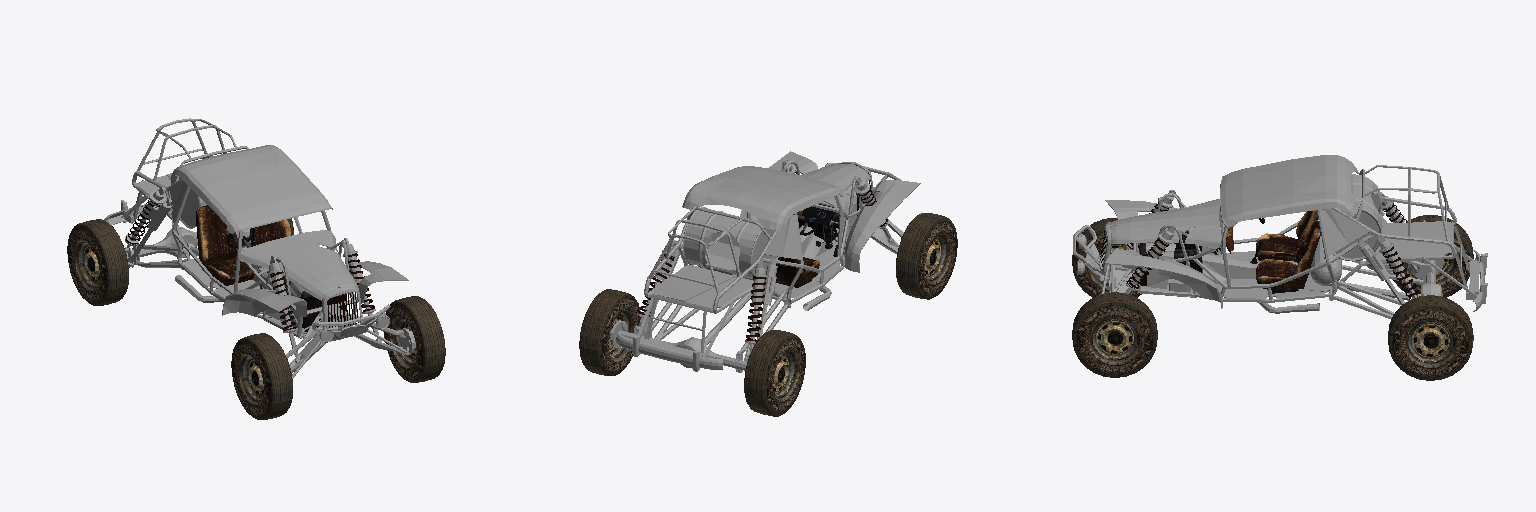
The picture shows the model from 3 angles: view 1: azimuth 30°, elevation 25°; view 2: azimuth 150°, elevation 25°; view 3: azimuth 270°, elevation 25°; orthographic projection.
Visible parts, largest first — view 1: BuggyExterior, BuggyWheels, BuggyInterior, BuggyShockAbs; view 2: BuggyExterior, BuggyWheels, BuggyInterior, BuggyShockAbs; view 3: BuggyExterior, BuggyWheels, BuggyInterior, BuggyShockAbs, BuggyEngine.
Boxes of the visible parts, <box> form: BuggyExterior: <box>104,118,415,378</box>; BuggyWheels: <box>67,218,445,419</box>; BuggyInterior: <box>196,205,290,289</box>; BuggyShockAbs: <box>126,200,374,330</box>; BuggyExterior: <box>609,151,920,372</box>; BuggyWheels: <box>579,213,957,416</box>; BuggyInterior: <box>776,206,837,287</box>; BuggyShockAbs: <box>638,165,887,341</box>; BuggyExterior: <box>1073,155,1487,318</box>; BuggyWheels: <box>1072,215,1473,380</box>; BuggyInterior: <box>1211,210,1320,293</box>; BuggyShockAbs: <box>1100,202,1419,299</box>; BuggyEngine: <box>1140,231,1201,285</box>.
Bounding box in the file's own units: 4.87 × 4.01 × 9.34.
5 materials, 4 textured.